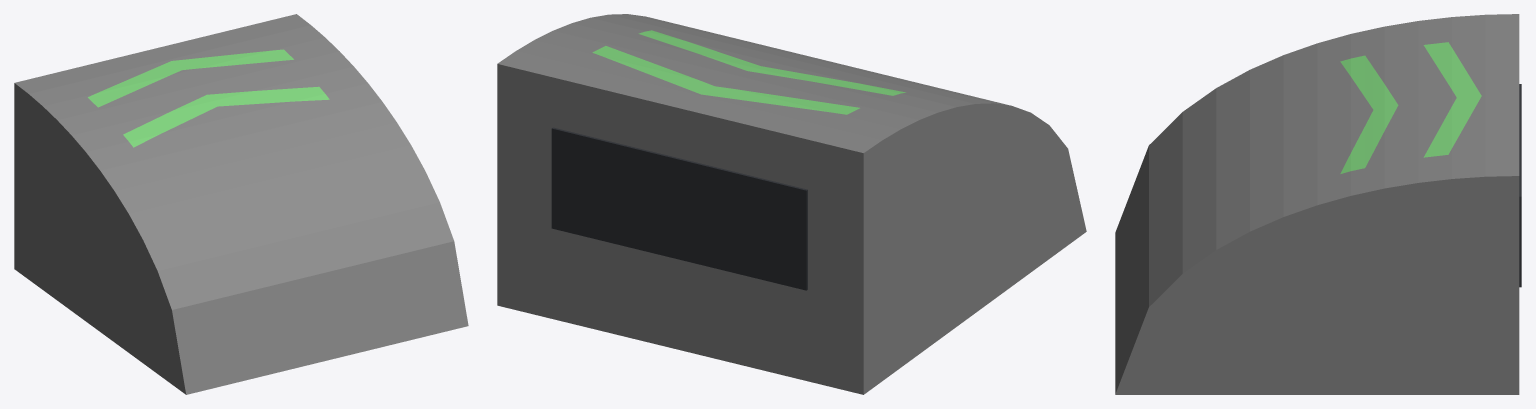
Rendered from vfef_ug_exit.obj.
The picture shows the model from 3 angles, left to right: view 1: azimuth 30°, elevation 25°; view 2: azimuth 150°, elevation 25°; view 3: azimuth 270°, elevation 25°; orthographic projection. The views are drawn at different scales.
Parts seen in each view (by area): view 1: vfef_ug_exit_0, vfef_ug_exit_1; view 2: vfef_ug_exit_0, vfef_ug_exit_2, vfef_ug_exit_1; view 3: vfef_ug_exit_0, vfef_ug_exit_1, vfef_ug_exit_2.
Boxes of the visible parts, box(x1,y1,x2,y2) form: vfef_ug_exit_0: box(14, 14, 468, 394); vfef_ug_exit_1: box(88, 49, 329, 147); vfef_ug_exit_0: box(497, 14, 1086, 394); vfef_ug_exit_2: box(551, 127, 807, 290); vfef_ug_exit_1: box(592, 30, 905, 114); vfef_ug_exit_0: box(1115, 14, 1519, 394); vfef_ug_exit_1: box(1340, 42, 1481, 173); vfef_ug_exit_2: box(1519, 84, 1521, 287).
Bounding box in the file's own units: 0.92 × 0.58 × 0.976.
